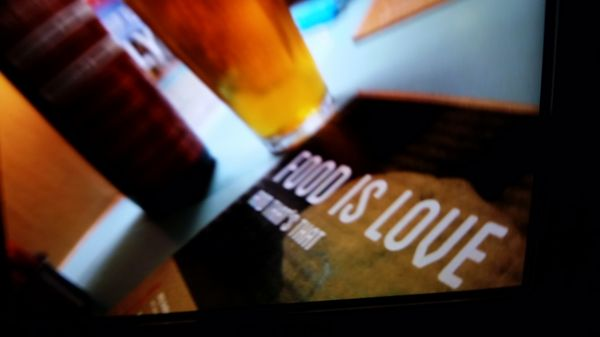sushi: (285, 2, 558, 135)
